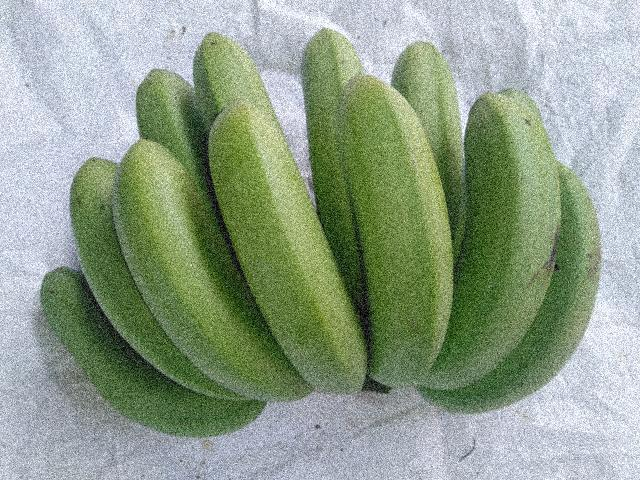freshunripe: (203, 107, 373, 404), (425, 82, 553, 419), (330, 70, 462, 386), (24, 269, 260, 445), (110, 139, 270, 395), (482, 150, 607, 432), (58, 149, 147, 324), (288, 18, 369, 182), (193, 16, 277, 140), (120, 55, 199, 156), (388, 20, 461, 114)
